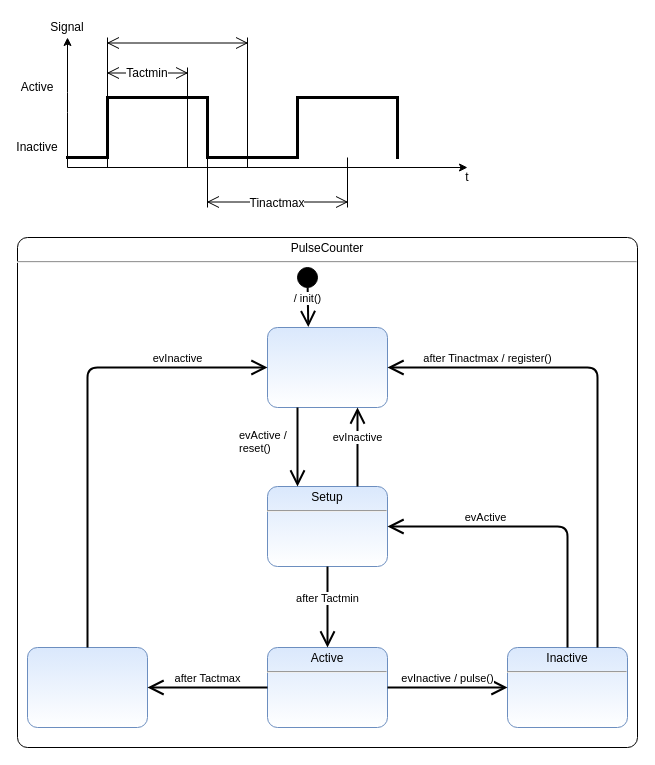
This 655x765 diagram has some shape labels left out. The shapes that lost their labels are listed below. From the top down, each one's centre as x and y in pixels, then its label:
At (177,102): "Tactmax".
At (327,367): "Idle".
At (87,687): "WaitInactive".
